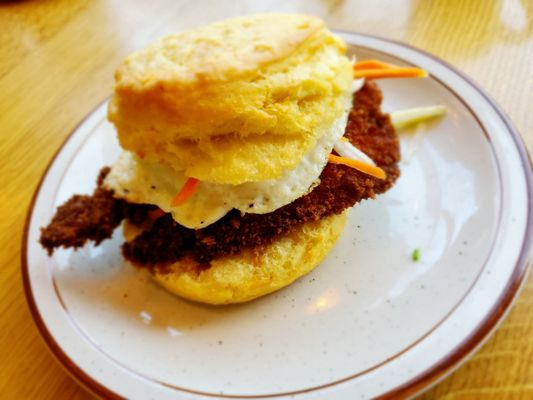soup: (40, 9, 412, 306)
